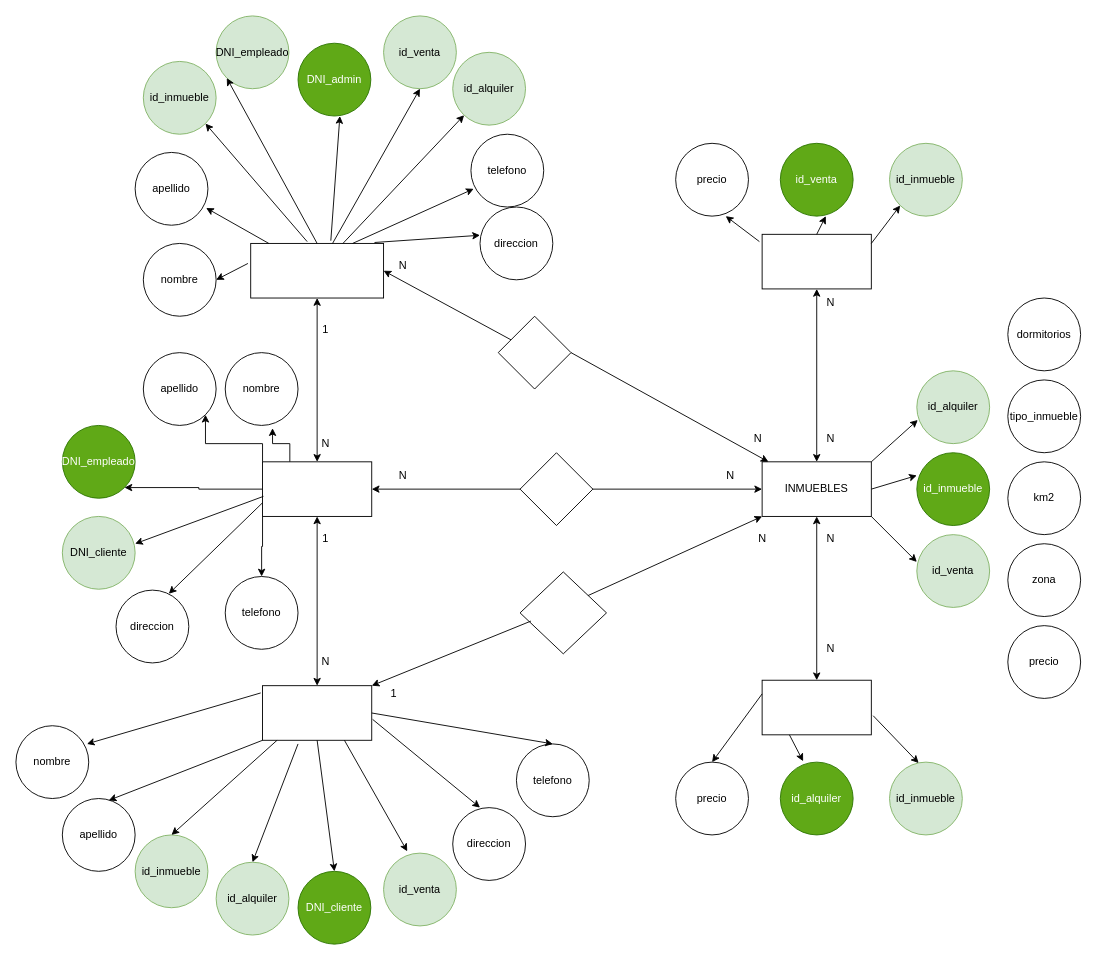
This 1097x960 diagram has some shape labels left out. Each missing label, with the centre of its shape:
"ADMINISTRADORES" belongs at (x=317, y=270).
"administrar" belongs at (x=534, y=352).
"AGENTE BIENES RAICES" belongs at (x=317, y=488).
"alquilar/comprar" belongs at (x=563, y=612).
"ALQUILER" belongs at (x=816, y=707).
"CLIENTE" belongs at (x=317, y=712).
"ofrecer" belongs at (x=556, y=489).
"VENTA" belongs at (x=816, y=261).
